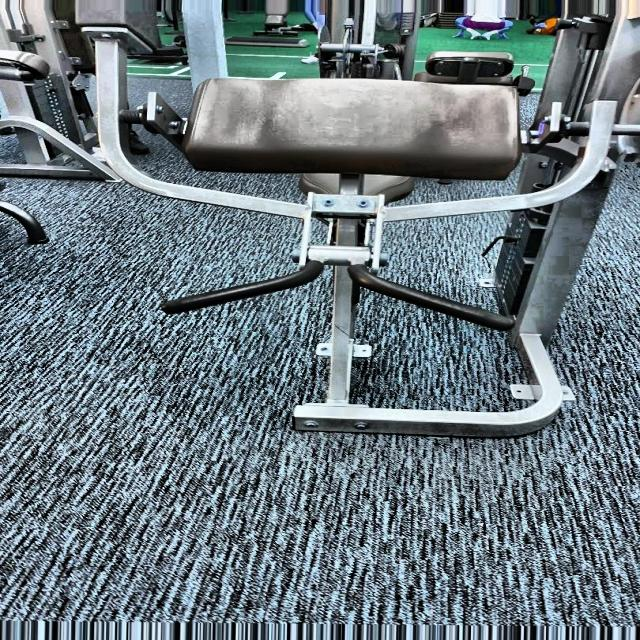bicep_curl_machine: (142, 68, 566, 448)
